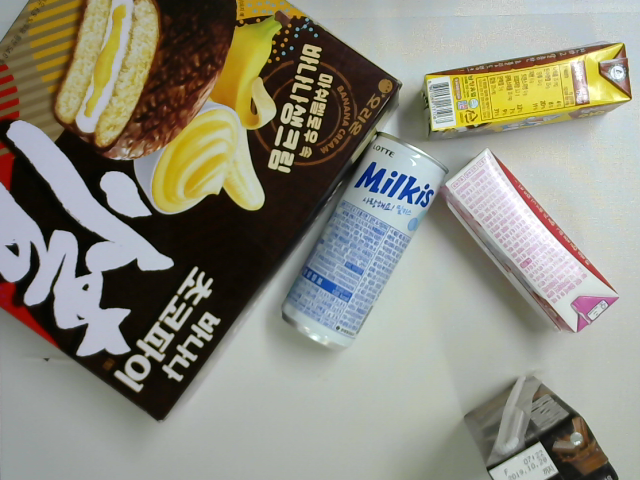Choco_E_Mong: (422, 41, 632, 138), (463, 374, 622, 480)
Choco_Pie_Banana: (1, 1, 403, 423)
Milkies_250ml: (281, 133, 450, 351)
Strawberry_E_Mong: (443, 148, 621, 333)
